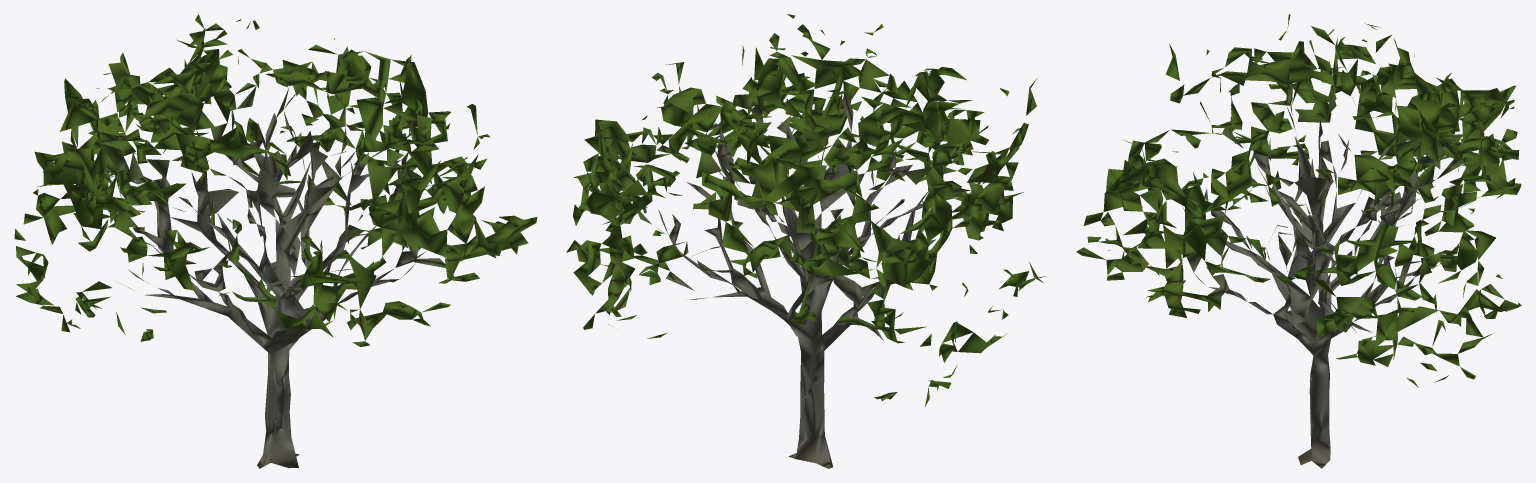
The model's file is zelkova.2.glb.
The picture shows the model from 3 angles, left to right: view 1: azimuth 30°, elevation 25°; view 2: azimuth 150°, elevation 25°; view 3: azimuth 270°, elevation 25°; orthographic projection. The views are drawn at different scales.
Visible parts, largest first — view 1: lod; view 2: lod; view 3: lod.
Part boxes in pixels (bbox=[...]): lod: bbox=[14, 14, 537, 468]; lod: bbox=[566, 14, 1045, 468]; lod: bbox=[1076, 14, 1521, 468].
Bounding box in the file's own units: 0.951 × 0.9319 × 0.8894.
